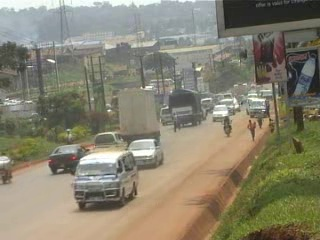Car: (46, 143, 91, 173), (124, 137, 165, 167), (210, 104, 230, 122), (217, 99, 236, 116), (228, 96, 241, 114)
Motorcycle: (0, 150, 17, 185), (220, 116, 234, 138)
